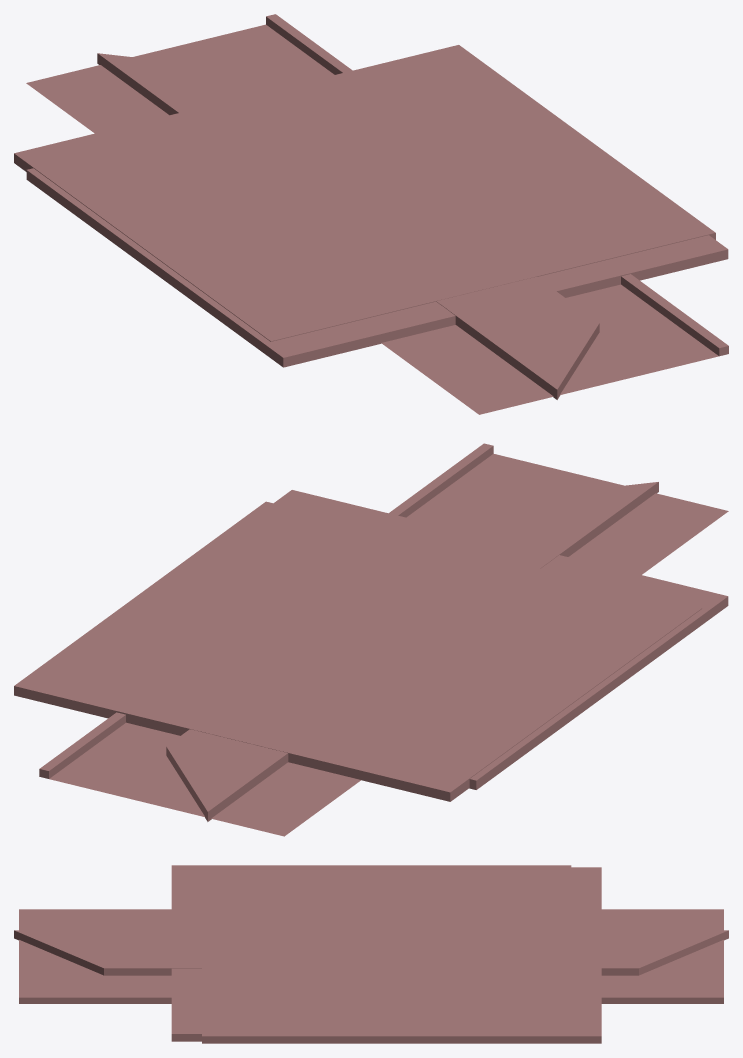
Rendered from models04.fbx.
3 views of the same model, one above another, from view 1: azimuth 30°, elevation 25°; view 2: azimuth 150°, elevation 25°; view 3: azimuth 270°, elevation 25° (orthographic). The views are drawn at different scales.
Visible parts, largest first — view 1: house_plan_ground1, road_1, house_side_path, house_plan_ground; view 2: house_plan_ground1, road_1, house_side_path, house_plan_ground; view 3: house_plan_ground1, road_1, house_side_path, house_plan_ground.
Part boxes in pixels (x1,y1,x2,y2): house_plan_ground1: [14, 45, 715, 341]; road_1: [26, 14, 728, 414]; house_side_path: [97, 53, 599, 399]; house_plan_ground: [26, 168, 728, 367]; house_plan_ground1: [14, 501, 702, 801]; road_1: [39, 443, 728, 836]; house_side_path: [166, 482, 658, 821]; house_plan_ground: [274, 490, 728, 789]; house_plan_ground1: [202, 867, 601, 1043]; road_1: [19, 909, 723, 1003]; house_side_path: [14, 930, 728, 975]; house_plan_ground: [171, 865, 571, 1041].
Bounding box in the file's own units: 337 × 7.58 × 593.
